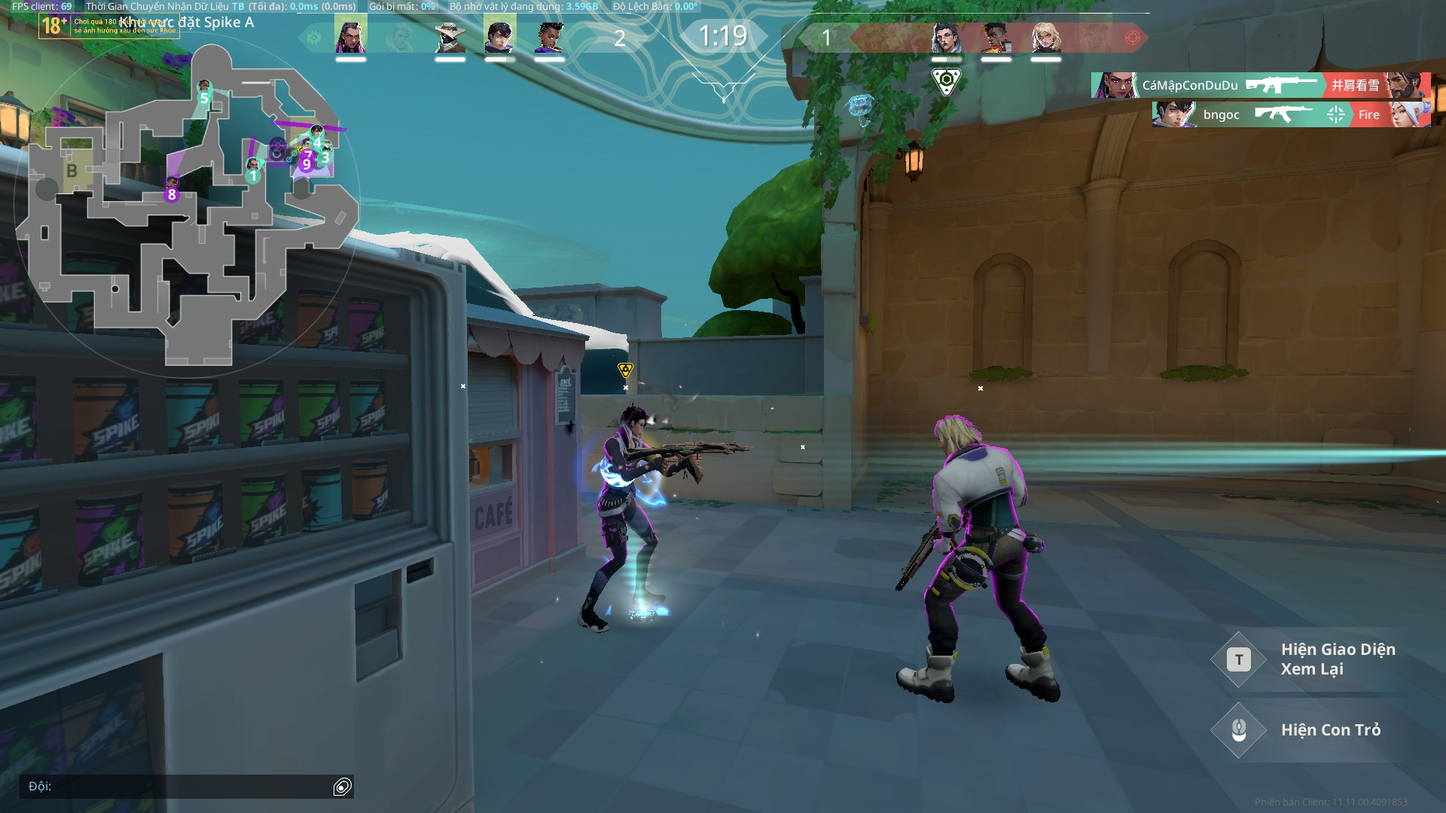body: (943, 449, 1028, 537), (599, 429, 651, 498)
head: (935, 412, 976, 457), (620, 403, 652, 440)
